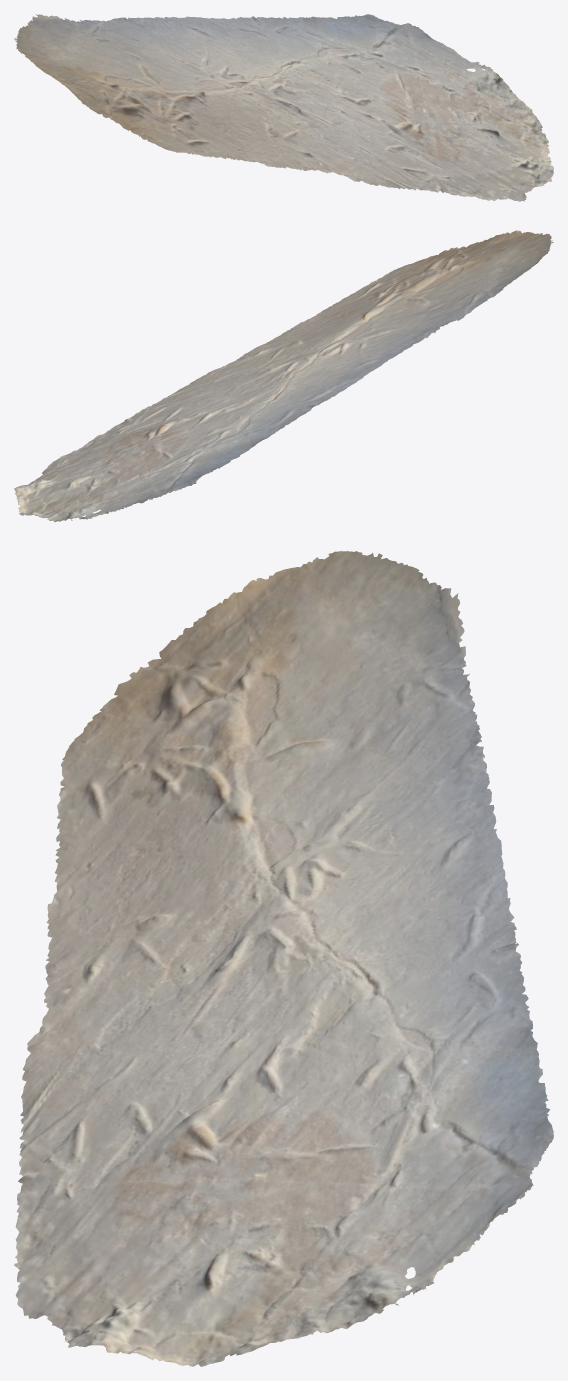
Rendered from modelo1.glb.
The picture shows the model from 3 angles, top to bottom: view 1: azimuth 30°, elevation 25°; view 2: azimuth 210°, elevation 25°; view 3: azimuth 270°, elevation 25°; orthographic projection. The views are drawn at different scales.
Parts seen in each view (by area): view 1: avipeda-8643; view 2: avipeda-8643; view 3: avipeda-8643.
Part boxes in pixels (x1,y1,x2,y2): avipeda-8643: (14, 14, 553, 201); avipeda-8643: (14, 230, 553, 522); avipeda-8643: (14, 551, 553, 1366).
Bounding box in the file's own units: 1 × 0.3753 × 0.4911.
Materials: 1 (1 with a texture image).
